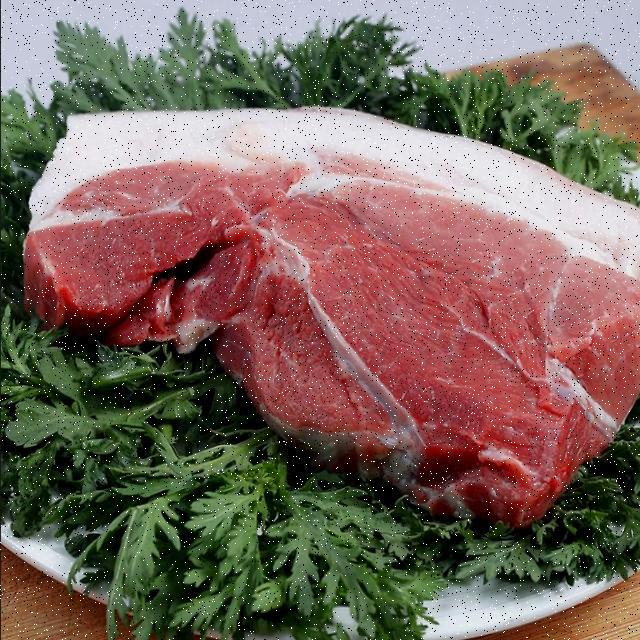pork: (20, 87, 631, 528)
